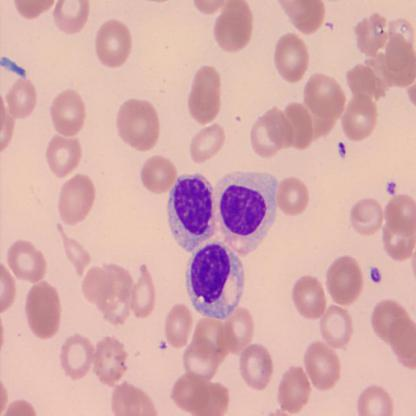Myelocyte: (188, 245, 242, 312), (223, 172, 273, 240), (172, 171, 216, 237)
